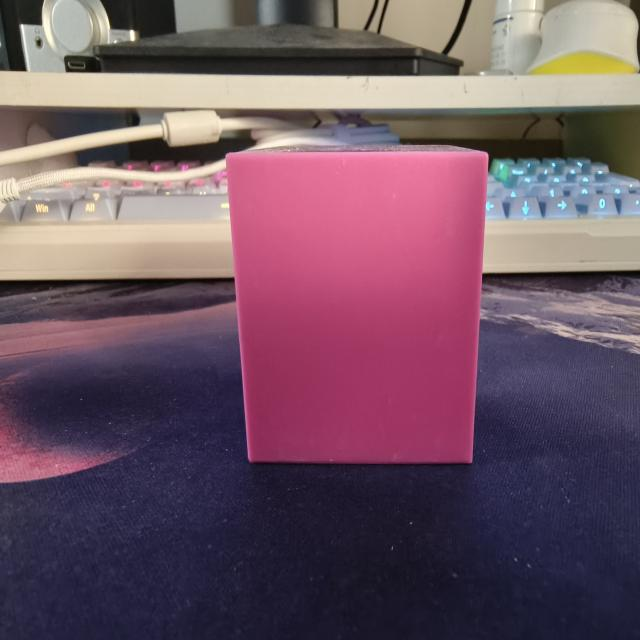pink: (219, 124, 497, 480)
